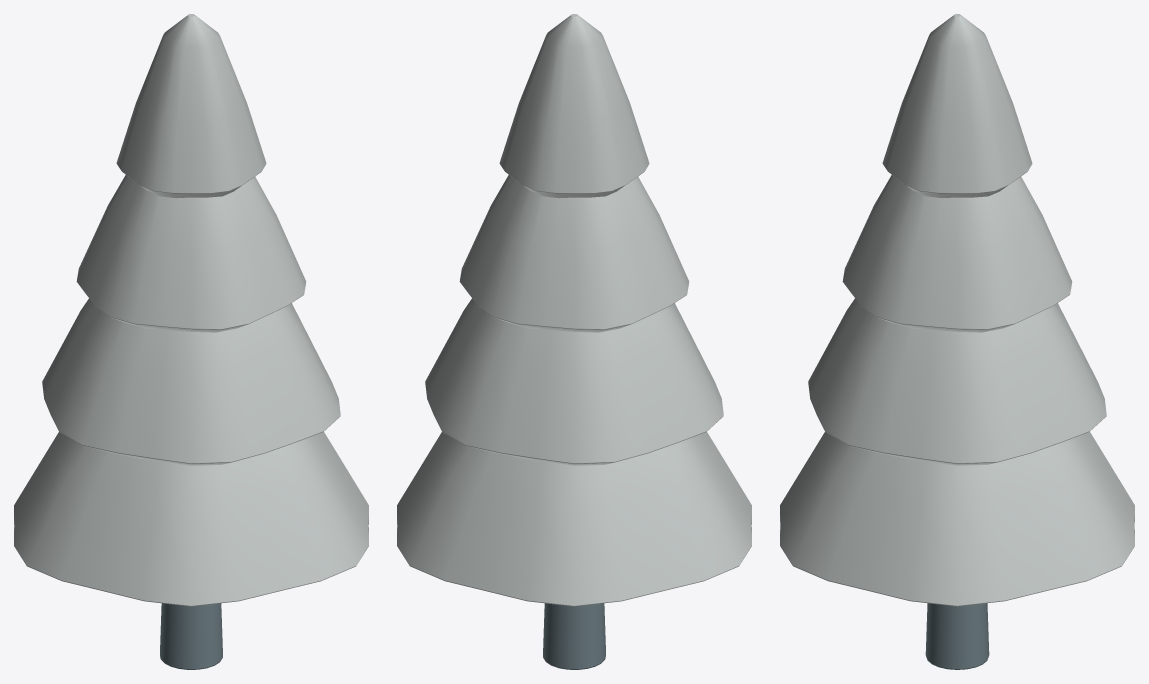
File: pine-tree.glb
3 renders of one model, left to right at view 1: azimuth 30°, elevation 25°; view 2: azimuth 150°, elevation 25°; view 3: azimuth 270°, elevation 25°, orthographic.
Visible parts, largest first — view 1: foliage_tier_0, foliage_tier_1, foliage_tier_2, foliage_tier_3, trunk; view 2: foliage_tier_0, foliage_tier_1, foliage_tier_2, foliage_tier_3, trunk; view 3: foliage_tier_0, foliage_tier_1, foliage_tier_2, foliage_tier_3, trunk.
Part boxes in pixels (box(x1,y1,x2,y2)): foliage_tier_0: box(14, 432, 368, 606); foliage_tier_1: box(42, 298, 340, 465); foliage_tier_2: box(76, 175, 306, 332); foliage_tier_3: box(116, 14, 266, 198); trunk: box(160, 603, 222, 669); foliage_tier_0: box(397, 432, 751, 606); foliage_tier_1: box(425, 298, 723, 465); foliage_tier_2: box(459, 175, 689, 332); foliage_tier_3: box(499, 14, 649, 198); trunk: box(543, 603, 605, 669); foliage_tier_0: box(780, 432, 1134, 606); foliage_tier_1: box(808, 298, 1106, 465); foliage_tier_2: box(842, 175, 1072, 332); foliage_tier_3: box(882, 14, 1032, 198); trunk: box(925, 603, 989, 669).
Size of the model in its own units: 2.15 by 4 by 2.
